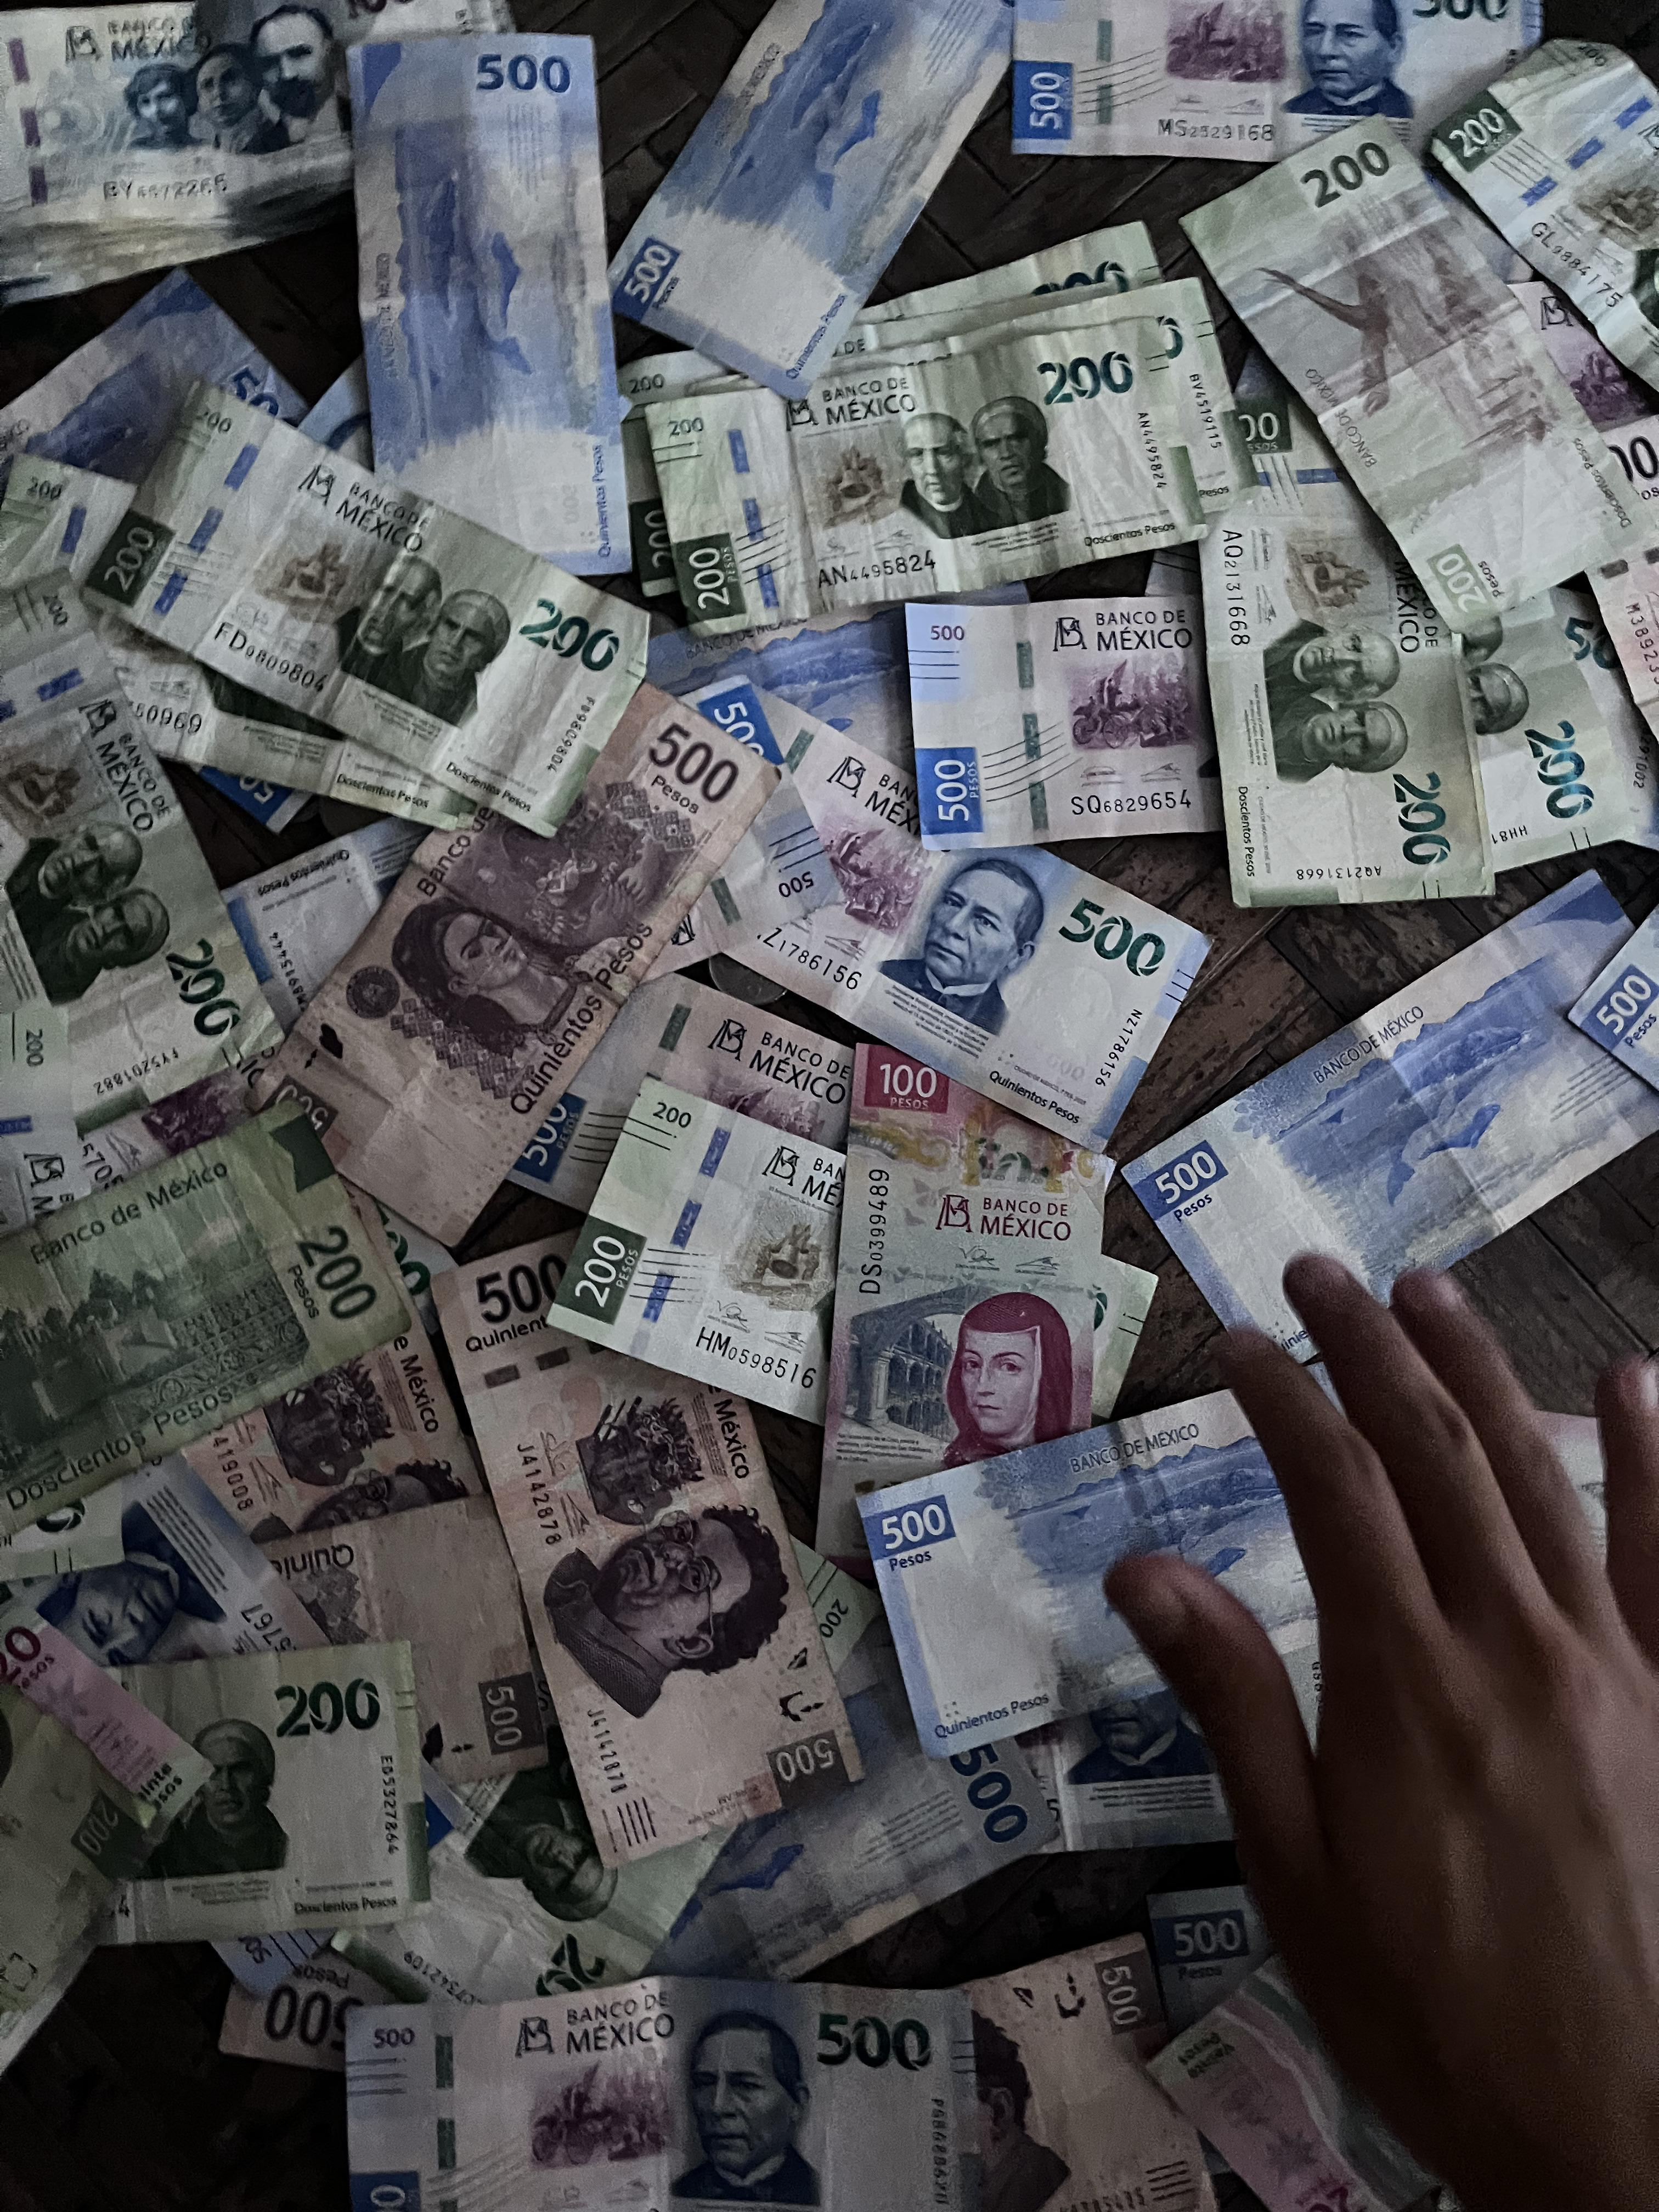1000: (0, 0, 558, 235)
200: (505, 1045, 1178, 1493), (68, 359, 653, 834), (1175, 110, 1628, 637), (596, 319, 1267, 641), (1155, 395, 1507, 942), (0, 1103, 416, 1562), (0, 1627, 455, 1952), (0, 568, 244, 1118), (1359, 493, 1657, 911), (0, 1656, 148, 2076)
500: (364, 1221, 925, 1905), (228, 644, 786, 1268), (397, 1216, 903, 1851), (159, 1191, 525, 1709), (335, 33, 659, 592), (746, 1881, 1270, 2212), (589, 0, 1018, 397), (894, 0, 1561, 157)
500 nuevo: (612, 655, 1236, 1162), (1026, 845, 1659, 1338), (782, 1385, 1406, 1757), (329, 1979, 976, 2212)
